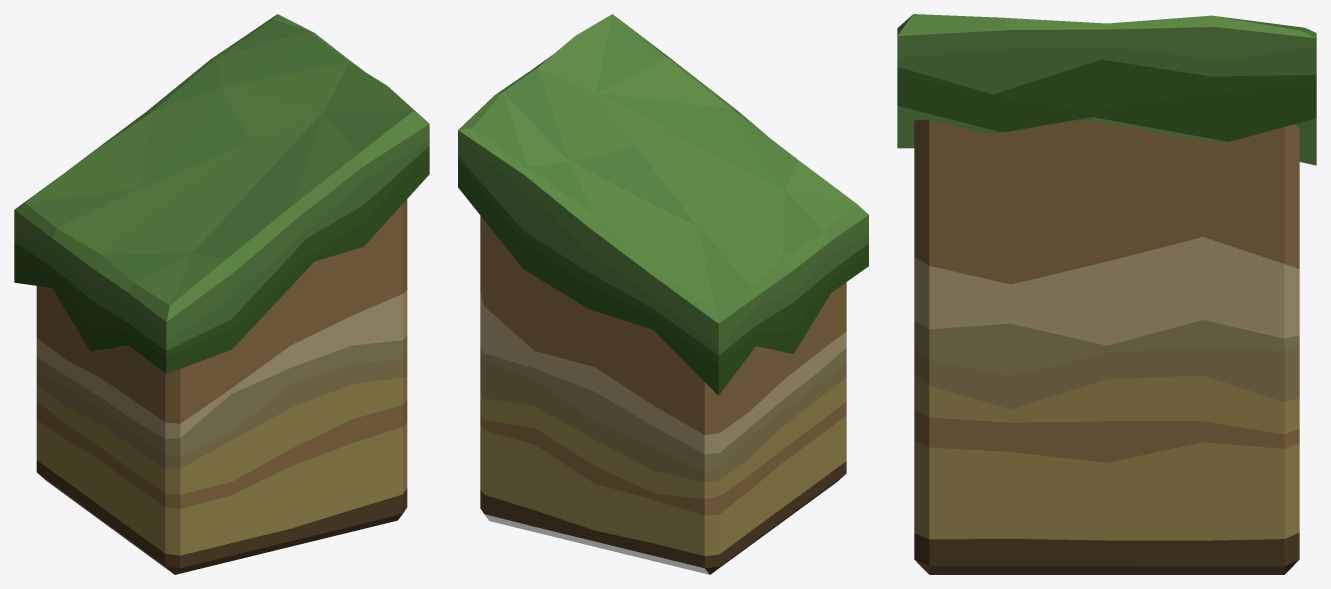
The model's file is Runestrife-Land-Grass-Slope.fbx.
The picture shows the model from 3 angles, left to right: view 1: azimuth 30°, elevation 25°; view 2: azimuth 150°, elevation 25°; view 3: azimuth 270°, elevation 25°; orthographic projection. The views are drawn at different scales.
Visible parts, largest first — view 1: Cube.001; view 2: Cube.001; view 3: Cube.001.
Boxes of the visible parts, <box> form: Cube.001: <box>14,14,429,574</box>; Cube.001: <box>458,14,868,574</box>; Cube.001: <box>897,14,1316,574</box>.
Bounding box in the file's own units: 300 × 448 × 300.
